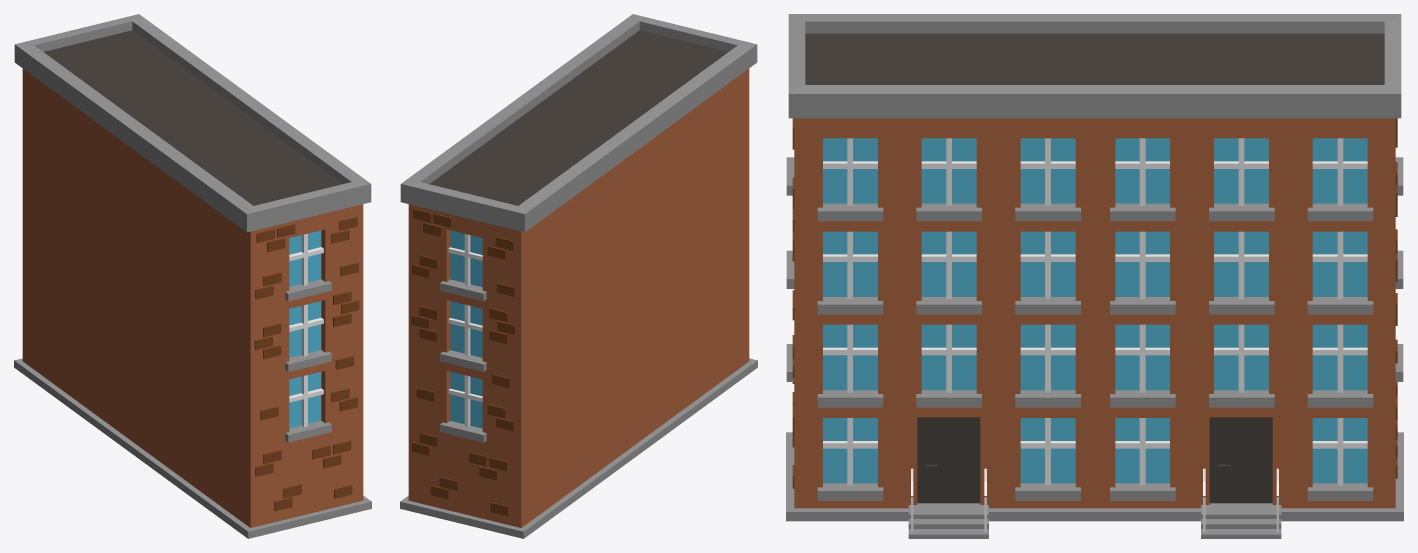
Rendered from Predio2.fbx.
3 renders of one model, left to right at view 1: azimuth 30°, elevation 25°; view 2: azimuth 150°, elevation 25°; view 3: azimuth 270°, elevation 25°, orthographic. The views are drawn at different scales.
Parts seen in each view (by area): view 1: Cube, Cube.006, Cube.003; view 2: Cube, Cube.005, Cube.004; view 3: Cube, Cube.001, Cube.007, Cube.008, Cube.002, Cube.064, Cube.065, Cube.006, Cube.005.
Boxes of the visible parts, x1,y1,x2,y2 form: Cube: (14,14,371,538); Cube.006: (285,279,331,442); Cube.003: (289,233,323,427); Cube: (400,14,757,538); Cube.005: (440,279,486,442); Cube.004: (448,234,482,426); Cube: (786,14,1403,521); Cube.001: (817,203,1080,500); Cube.007: (1110,203,1373,500); Cube.008: (1115,138,1367,485); Cube.002: (823,138,1075,485); Cube.064: (908,503,988,538); Cube.065: (1201,503,1281,538); Cube.006: (786,157,794,381); Cube.005: (1395,157,1403,381).
Bounding box in the file's own units: 3029 × 6246 × 8160.
